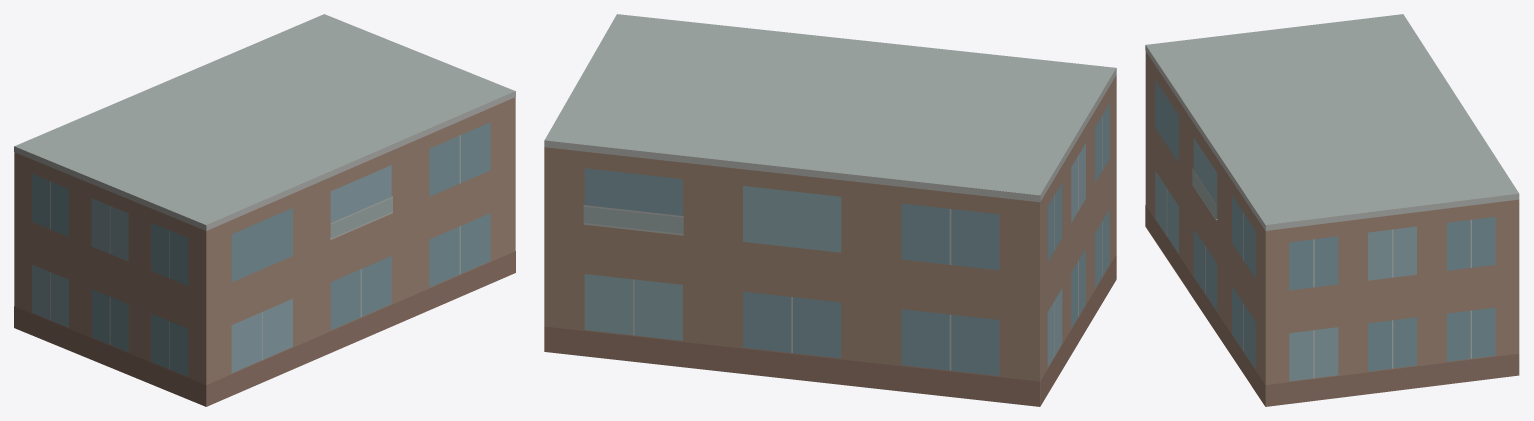
File: survey-upis-32611976.glb
The picture shows the model from 3 angles, left to right: view 1: azimuth 30°, elevation 25°; view 2: azimuth 150°, elevation 25°; view 3: azimuth 270°, elevation 25°; orthographic projection. The views are drawn at different scales.
Parts seen in each view (by area): view 1: survey-upis-32611976.tmp; view 2: survey-upis-32611976.tmp; view 3: survey-upis-32611976.tmp.
Part boxes in pixels (bbox=[...]): survey-upis-32611976.tmp: bbox=[14, 14, 515, 406]; survey-upis-32611976.tmp: bbox=[544, 14, 1116, 406]; survey-upis-32611976.tmp: bbox=[1145, 14, 1519, 406].
Size of the model in its own units: 18.95 by 7.6 by 14.18.
